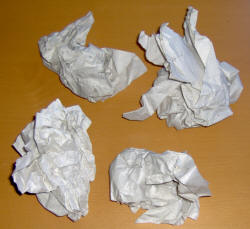Tissue: (122, 6, 244, 131), (8, 97, 98, 223), (106, 145, 214, 227)
